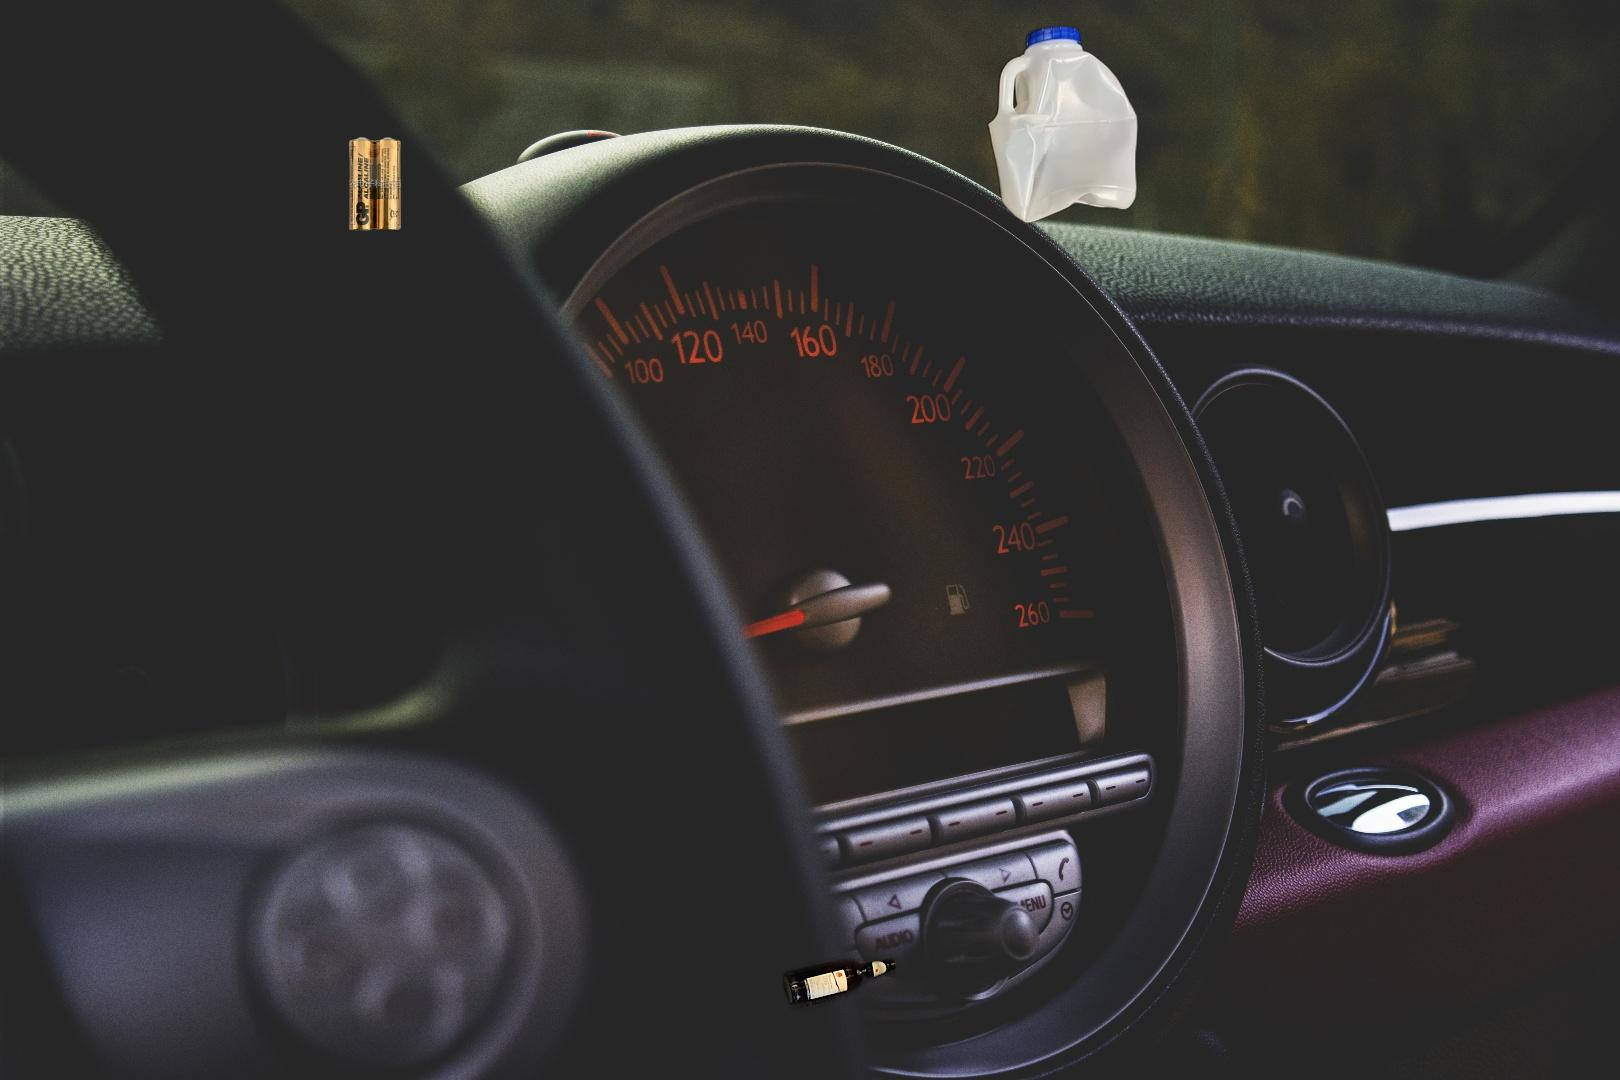battery: (346, 134, 404, 234)
glass: (468, 806, 902, 1080)
plastic-bottles: (978, 22, 1141, 225)
